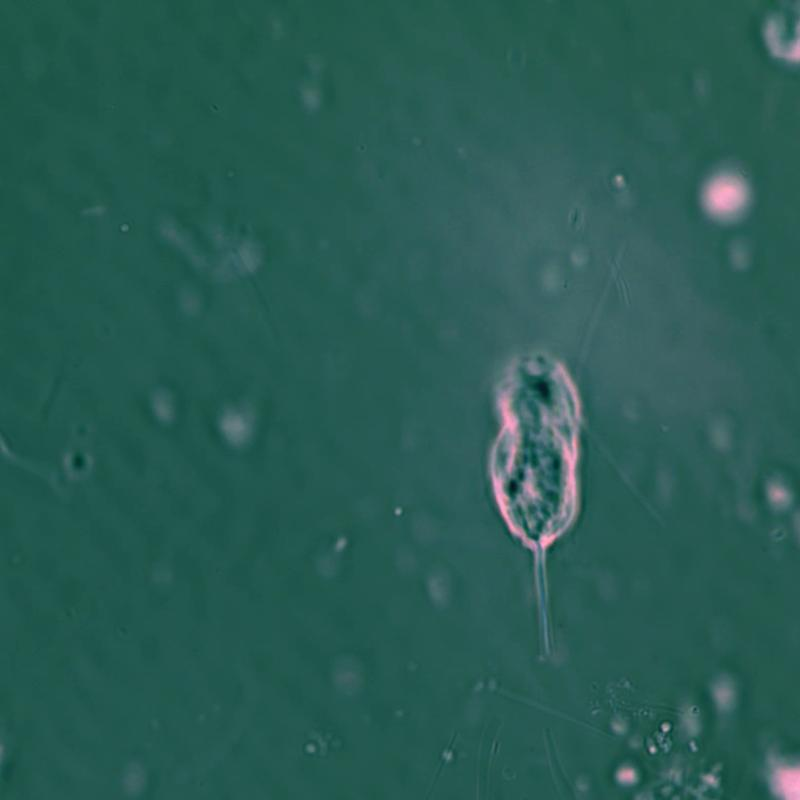depth:40: (457, 334, 636, 671)
